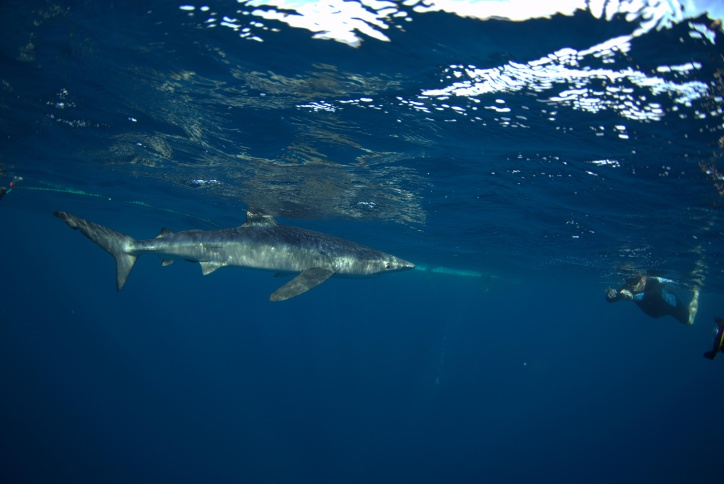Azul: (33, 266, 396, 402)
